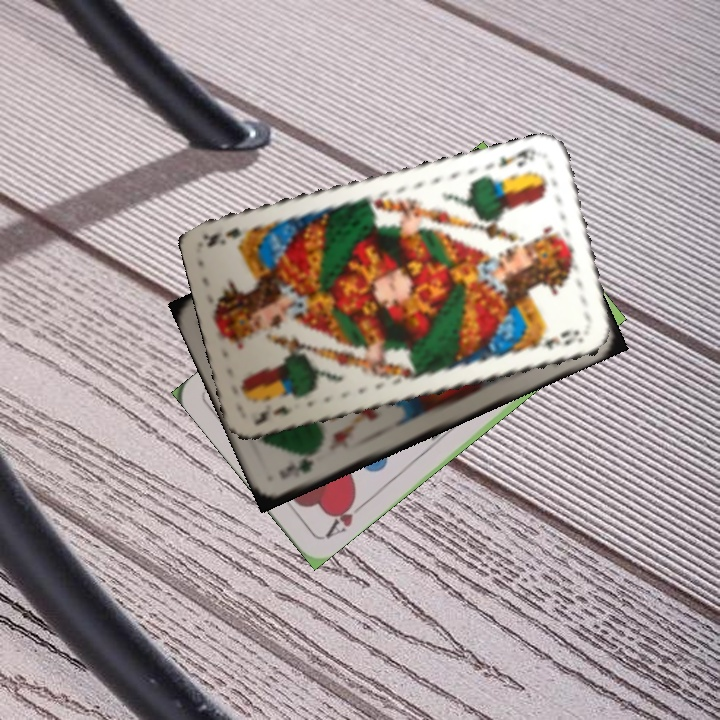EK: (494, 144, 538, 171), (250, 402, 295, 428)
GK: (280, 455, 316, 476)
HA: (320, 491, 369, 542)
